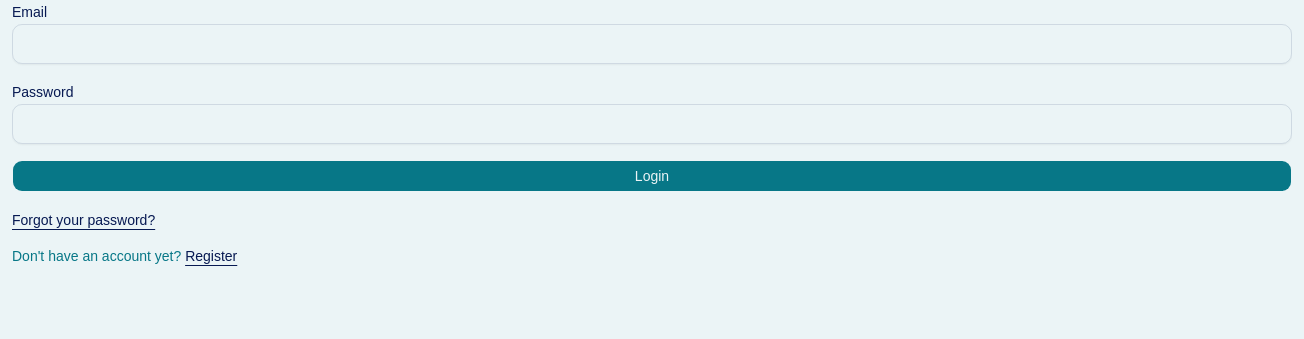
Test: LoginForm › shows client validation errors for empty submit
Click the button "Login". click: [652, 176]
box: [12,160,1292,192]
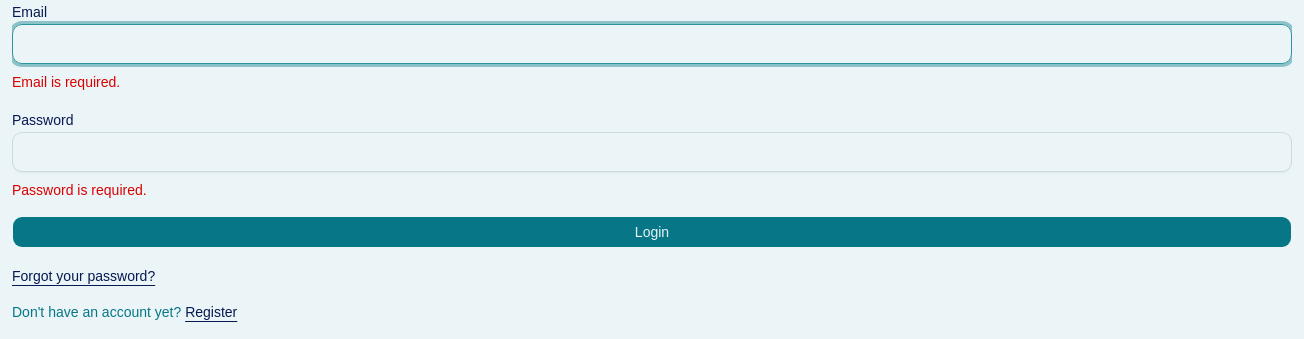
Expected: the text "Email is required." is shown, [12,74,120,90]
Expected: the text "Password is required." is shown, [12,182,147,198]
